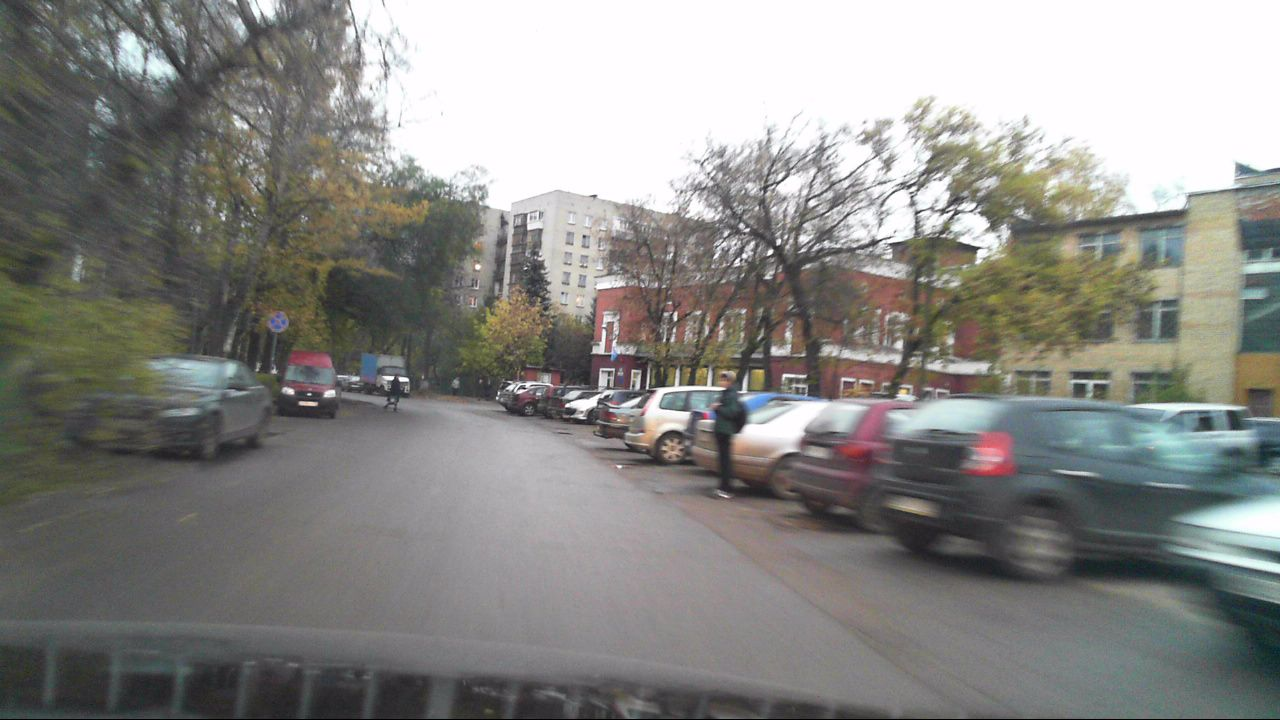No Parking: (266, 310, 288, 332)
